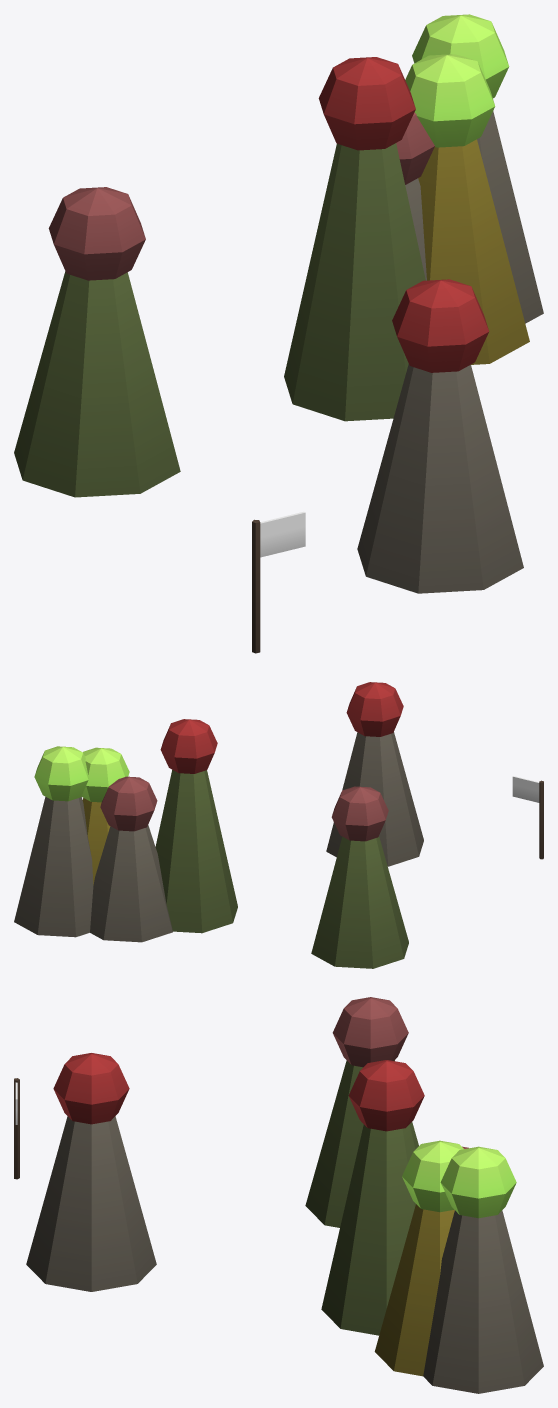
File: INCUBAT.glb
The picture shows the model from 3 angles, top to bottom: view 1: azimuth 30°, elevation 25°; view 2: azimuth 150°, elevation 25°; view 3: azimuth 270°, elevation 25°; orthographic projection. The views are drawn at different scales.
Parts seen in each view (by area): view 1: Body, Flag; view 2: Body, Flag; view 3: Body.
Part boxes in pixels (left/top/right/bottom): Body: left=14, top=14, right=543, bottom=653; Flag: left=260, top=511, right=305, bottom=557; Body: left=14, top=682, right=543, bottom=968; Flag: left=512, top=776, right=539, bottom=802; Body: left=14, top=997, right=543, bottom=1393.
Bounding box in the file's own units: 4.72 × 2.52 × 4.87.
1 material, 1 textured.
